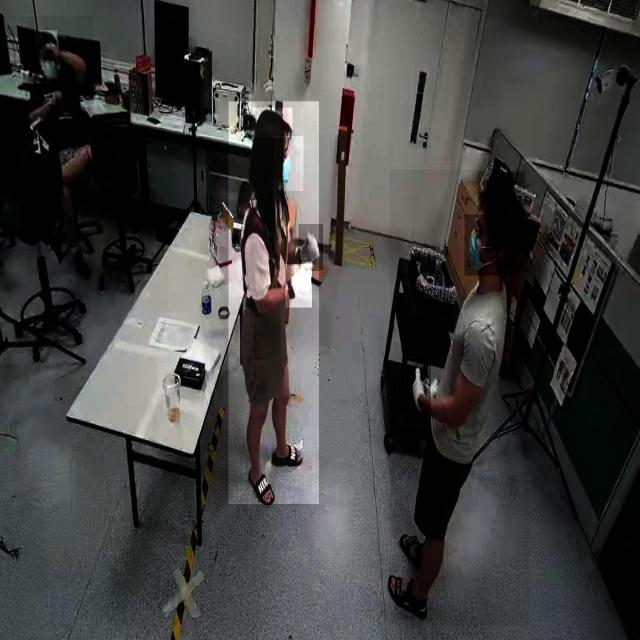face_mask: (464, 214, 502, 276), (274, 136, 304, 191), (40, 46, 58, 79)
hand_glove: (407, 359, 431, 414), (298, 224, 324, 271), (286, 264, 312, 308)
hand_noglove: (45, 40, 63, 60)
head_nohelmet: (478, 172, 526, 212), (252, 108, 292, 138), (34, 30, 58, 46)
person: (390, 169, 530, 626), (228, 101, 320, 505), (26, 16, 94, 276)
